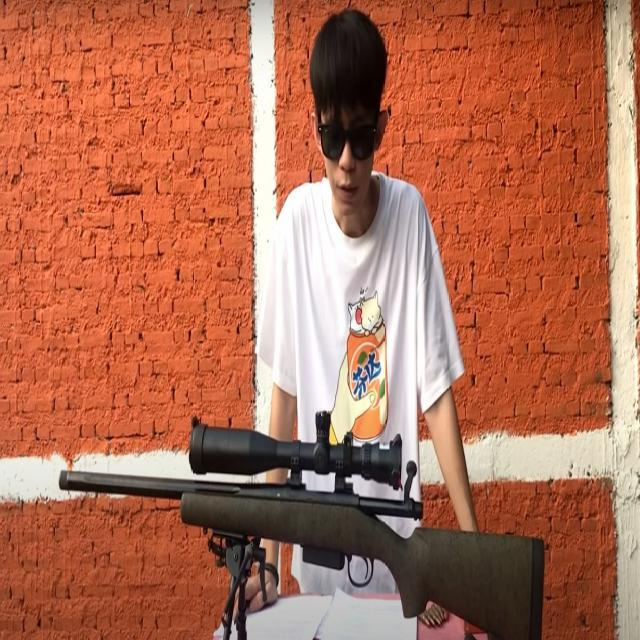rifle: (53, 404, 542, 640)
